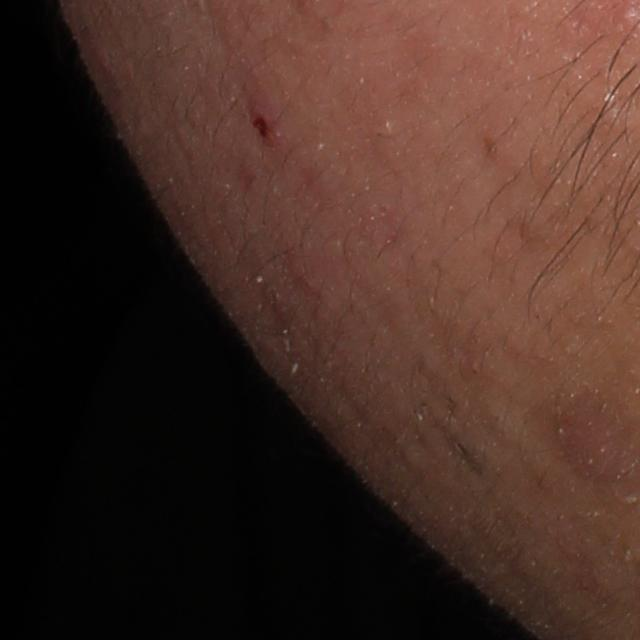papule: (242, 95, 291, 155)
